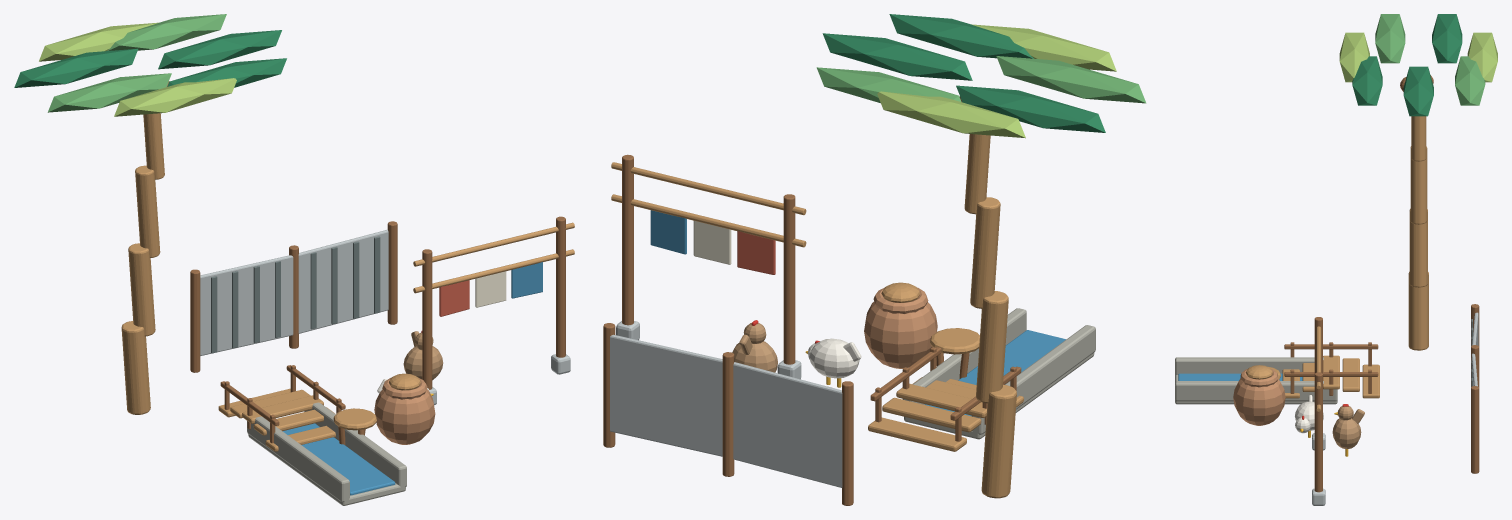
Rendered from kampong-props-v2.glb.
3 renders of one model, left to right at view 1: azimuth 30°, elevation 25°; view 2: azimuth 150°, elevation 25°; view 3: azimuth 270°, elevation 25°, orthographic. The views are drawn at different scales.
Parts seen in each view (by area): view 1: Zinc panel, Zinc panel.001, Coconut frond.003, Coconut frond, Water jar body, Coconut frond.005, Coconut frond.004, Drain wall, Drain water, Coconut frond.001, Coconut trunk, Coconut trunk.001 (+22 smaller); view 2: Zinc panel.001, Zinc panel, Coconut frond, Coconut frond.004, Coconut frond.002, Coconut frond.003, Water jar body, Coconut frond.006, Coconut trunk, Drain wall, Coconut trunk.001, Coconut frond.005 (+25 smaller); view 3: Drain wall, Drain wall.001, Water jar body, Coconut trunk, Coconut frond, Coconut frond.003, Coconut frond.004, Coconut trunk.001, Coconut trunk.002, Coconut frond.006, Coconut frond.001, Coconut frond.005 (+14 smaller).
Part boxes in pixels (bbox=[...]): Zinc panel: bbox=[200, 255, 293, 355]; Zinc panel.001: bbox=[298, 229, 388, 333]; Coconut frond.003: bbox=[14, 48, 138, 87]; Coconut frond: bbox=[158, 30, 281, 69]; Water jar body: bbox=[374, 389, 435, 444]; Coconut frond.005: bbox=[114, 78, 236, 116]; Coconut frond.004: bbox=[47, 73, 171, 112]; Drain wall: bbox=[247, 416, 349, 502]; Drain water: bbox=[283, 423, 395, 495]; Coconut frond.001: bbox=[107, 14, 226, 50]; Coconut trunk: bbox=[121, 321, 150, 414]; Coconut trunk.001: bbox=[128, 243, 155, 336]; Zinc panel.001: bbox=[610, 334, 722, 456]; Zinc panel: bbox=[733, 362, 842, 487]; Coconut frond: bbox=[822, 33, 972, 80]; Coconut frond.004: bbox=[996, 56, 1146, 103]; Coconut frond.002: bbox=[877, 91, 1025, 138]; Coconut frond.003: bbox=[956, 85, 1105, 132]; Water jar body: bbox=[864, 301, 937, 368]; Coconut frond.006: bbox=[889, 14, 1033, 58]; Coconut trunk: bbox=[981, 384, 1016, 498]; Drain wall: bbox=[972, 325, 1095, 434]; Coconut trunk.001: bbox=[976, 291, 1008, 403]; Coconut frond.005: bbox=[971, 24, 1116, 71]; Drain wall: bbox=[1175, 357, 1323, 375]; Drain wall.001: bbox=[1175, 381, 1337, 401]; Water jar body: bbox=[1233, 378, 1285, 425]; Coconut trunk: bbox=[1408, 271, 1428, 350]; Coconut frond: bbox=[1403, 66, 1433, 116]; Coconut frond.003: bbox=[1432, 14, 1462, 63]; Coconut frond.004: bbox=[1375, 14, 1405, 63]; Coconut trunk.001: bbox=[1409, 208, 1427, 287]; Coconut trunk.002: bbox=[1410, 146, 1427, 224]; Coconut frond.006: bbox=[1352, 56, 1382, 105]; Coconut frond.001: bbox=[1455, 56, 1485, 105]; Coconut frond.005: bbox=[1339, 32, 1369, 82].
Size of the model in its own units: 7.6 by 5.38 by 5.17.
